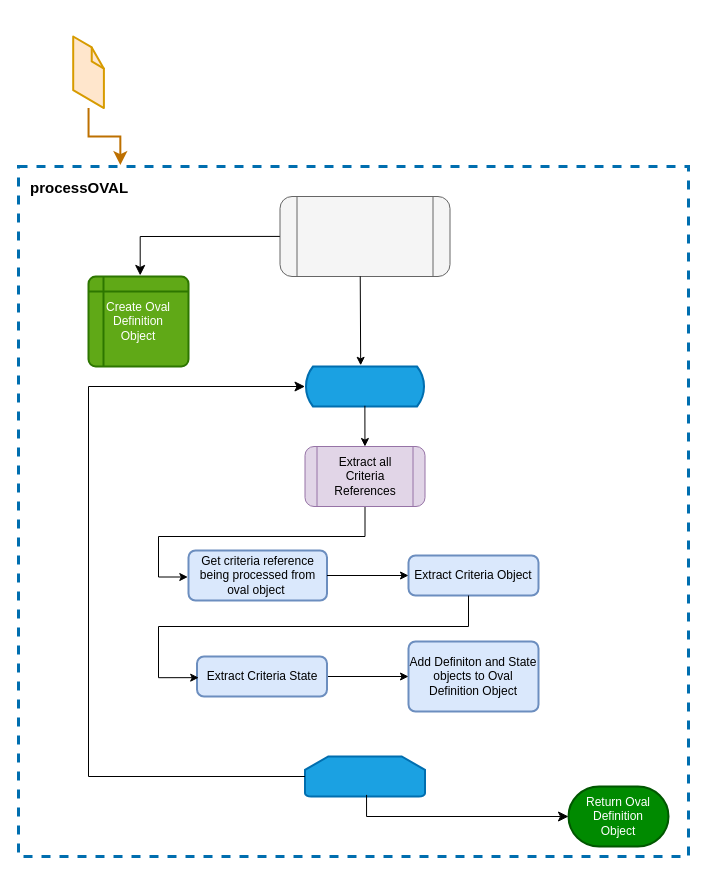
Image size: 707x875. Some labels were removed from this diagram. Here are the shapes that lost their labels. From the top down, the centre of each, then its label:
[88,72]: Oval String
[364,236]: Parse OVAL (convert oval xml string into an Oval Defination object)
[365,386]: Loop each Oval Definition
[365,776]: End Loop
